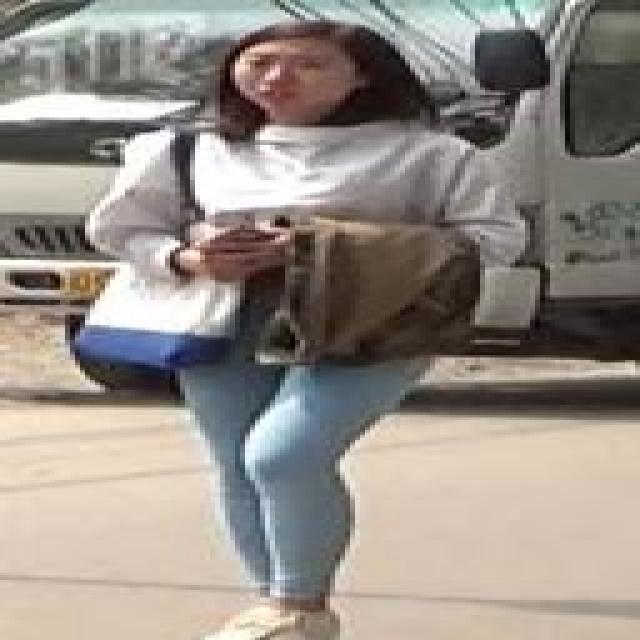adult: (86, 24, 527, 640)
